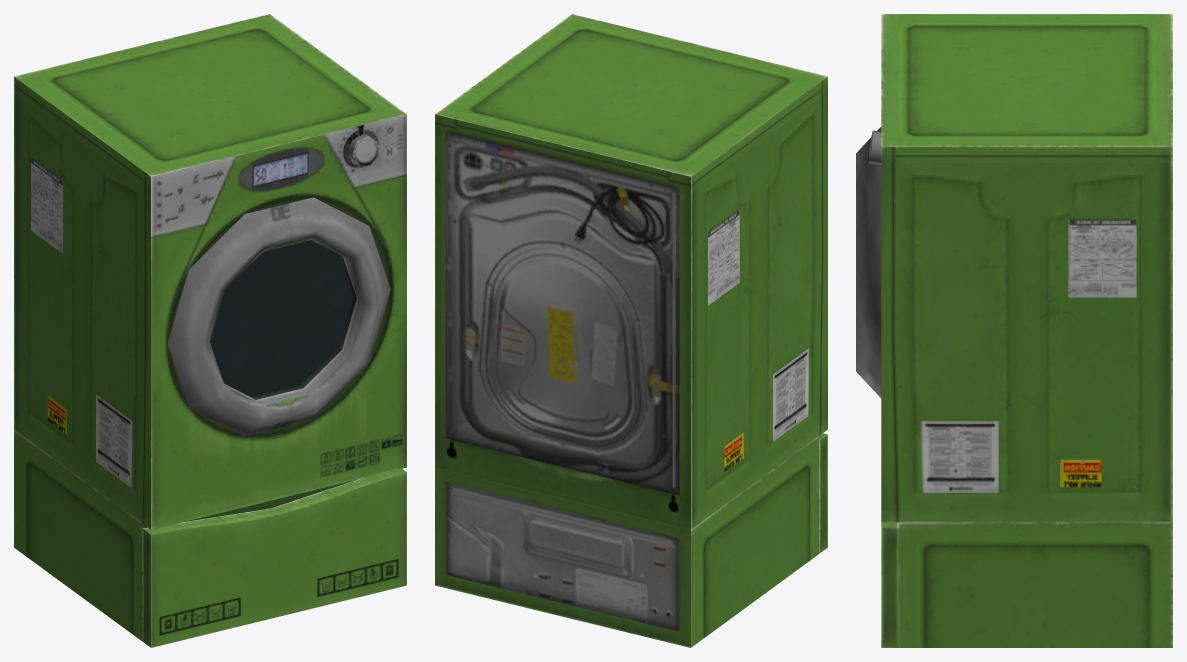
The model's file is machinery_washer_green_lod1.glb.
3 renders of one model, left to right at view 1: azimuth 30°, elevation 25°; view 2: azimuth 150°, elevation 25°; view 3: azimuth 270°, elevation 25°, orthographic. The views are drawn at different scales.
Visible parts, largest first — view 1: surf0, surf1; view 2: surf0; view 3: surf0.
Part boxes in pixels (x1,y1,x2,y2): surf0: [14, 14, 406, 647]; surf1: [210, 240, 353, 397]; surf0: [435, 14, 827, 647]; surf0: [856, 14, 1172, 647].
Bounding box in the file's own units: 31.49 × 55.43 × 31.75.
